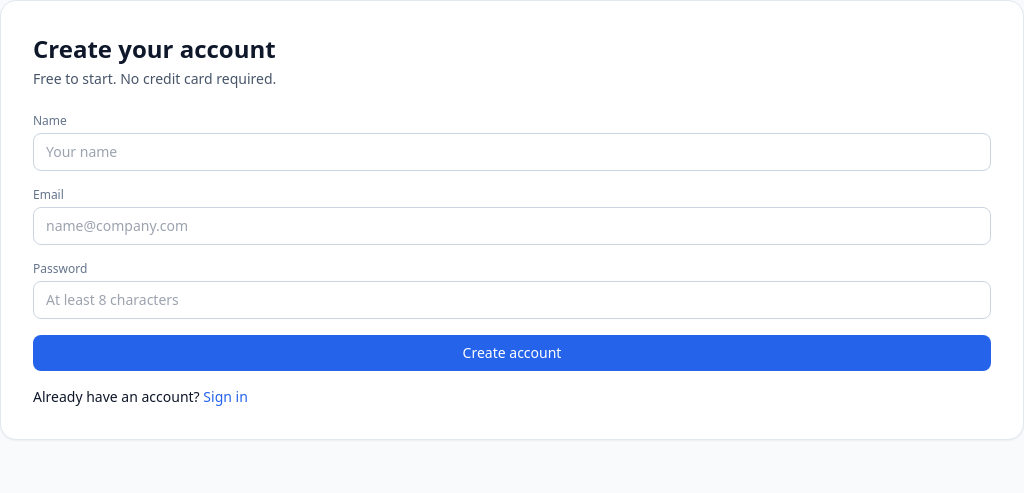
Scenario: SignupPage › shows an error when signup fails
Type "Alex" into the field labelled "Name" at (512, 152), box [33, 133, 991, 171]
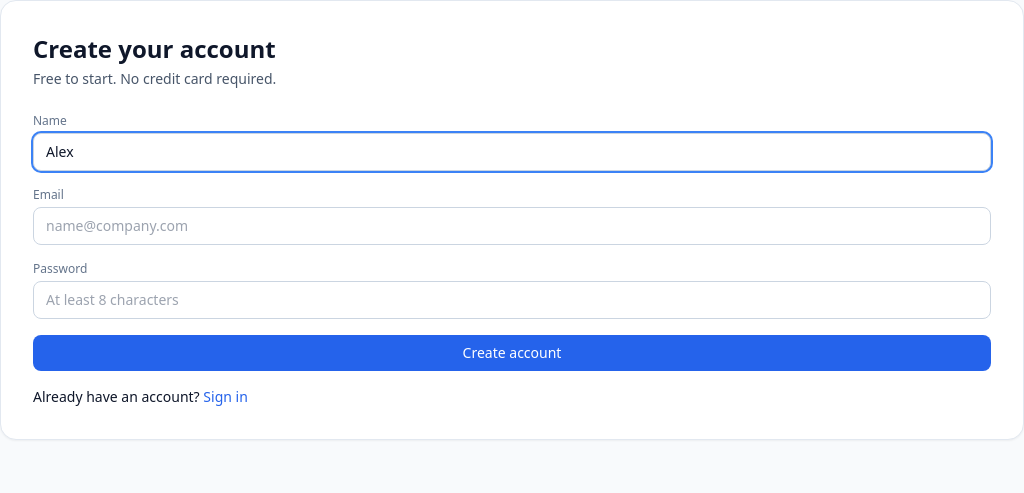
Type "alex@example.com" into the field labelled "Email" at (512, 226), box [33, 207, 991, 245]
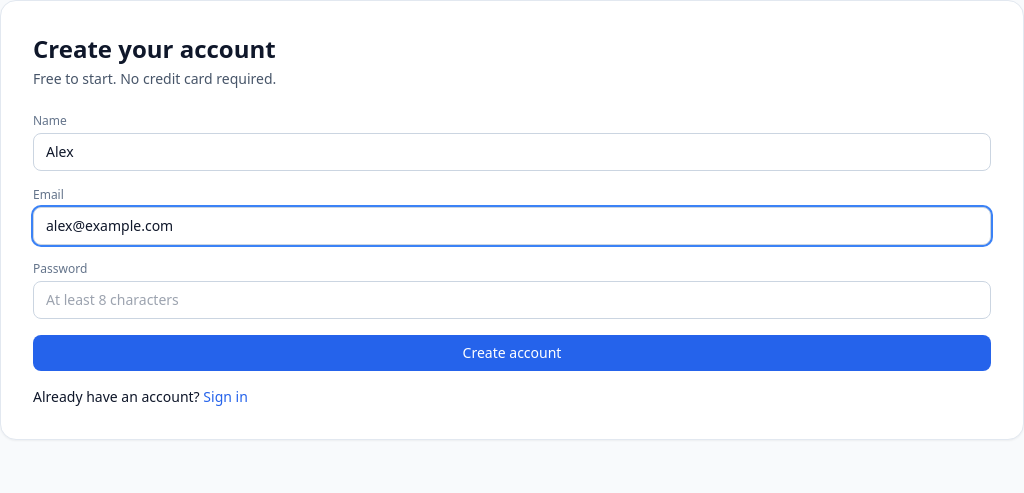
Type "password123" into the password field labelled "Password" at (512, 300), box [33, 281, 991, 319]
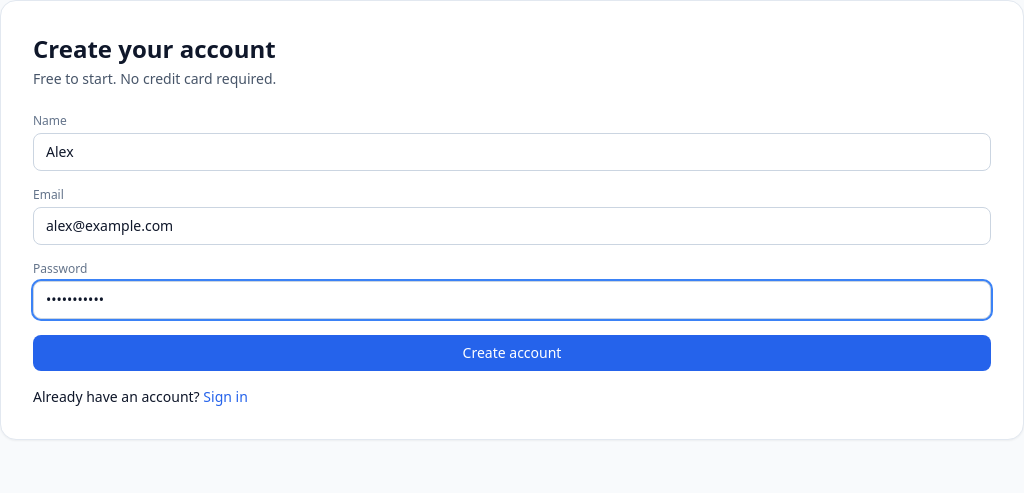
Click the button "Create account" at (512, 353), box [33, 335, 991, 371]
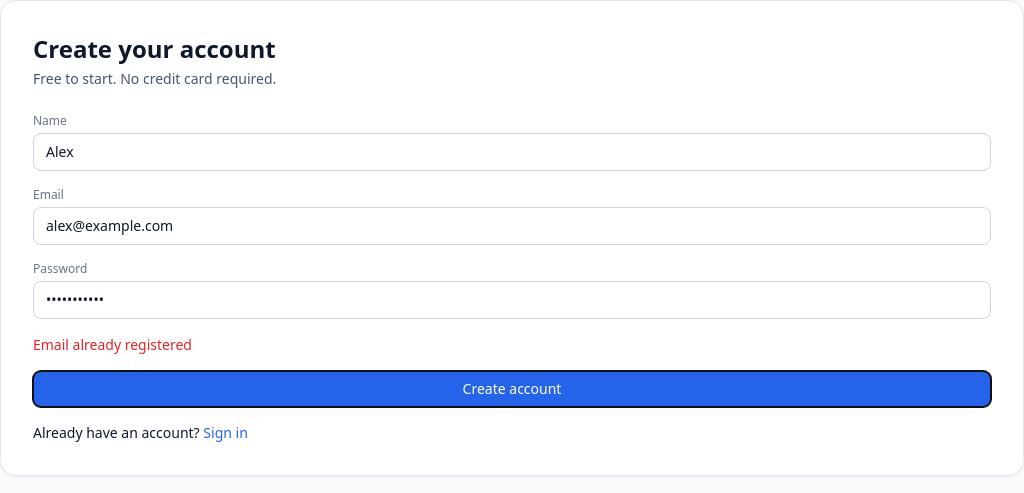
Expected: the message reads "Email already registered", [33, 335, 192, 354]
